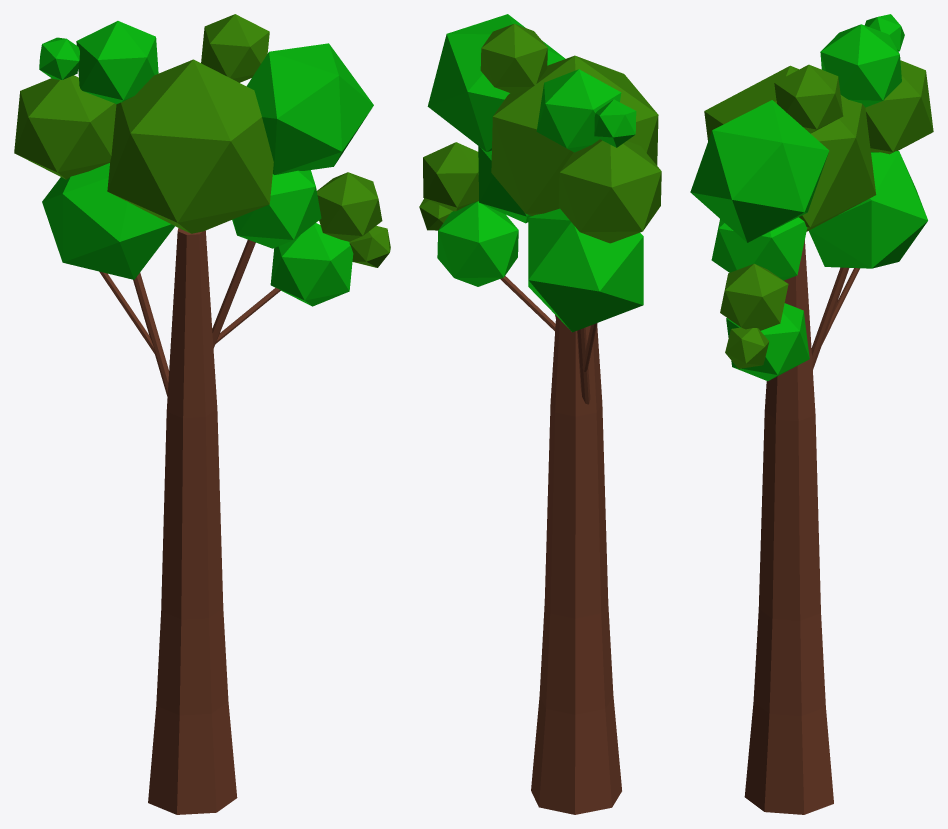
3 renders of one model, left to right at view 1: azimuth 30°, elevation 25°; view 2: azimuth 150°, elevation 25°; view 3: azimuth 270°, elevation 25°, orthographic.
Visible parts, largest first — view 1: TREE; view 2: TREE; view 3: TREE.
Boxes of the visible parts, x1,y1,x2,y2 form: TREE: (14, 14, 390, 814); TREE: (419, 14, 661, 814); TREE: (690, 14, 933, 814).
Bounding box in the file's own units: 0.00413 × 0.01 × 0.00291.
